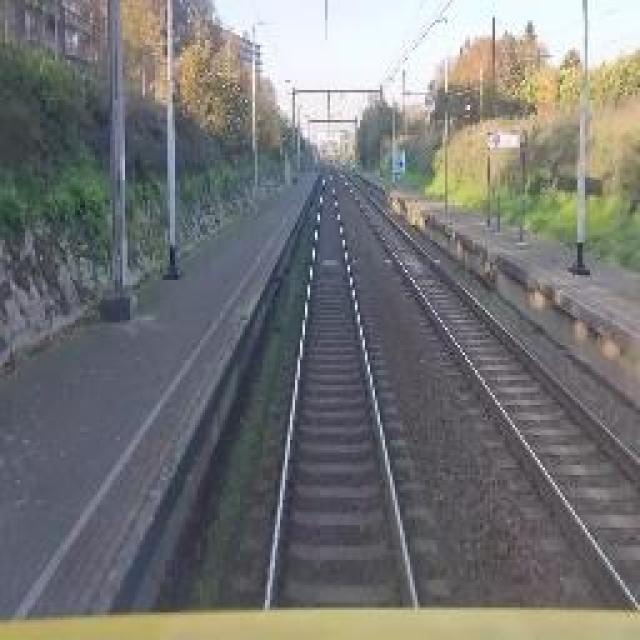rail: (224, 163, 455, 609)
